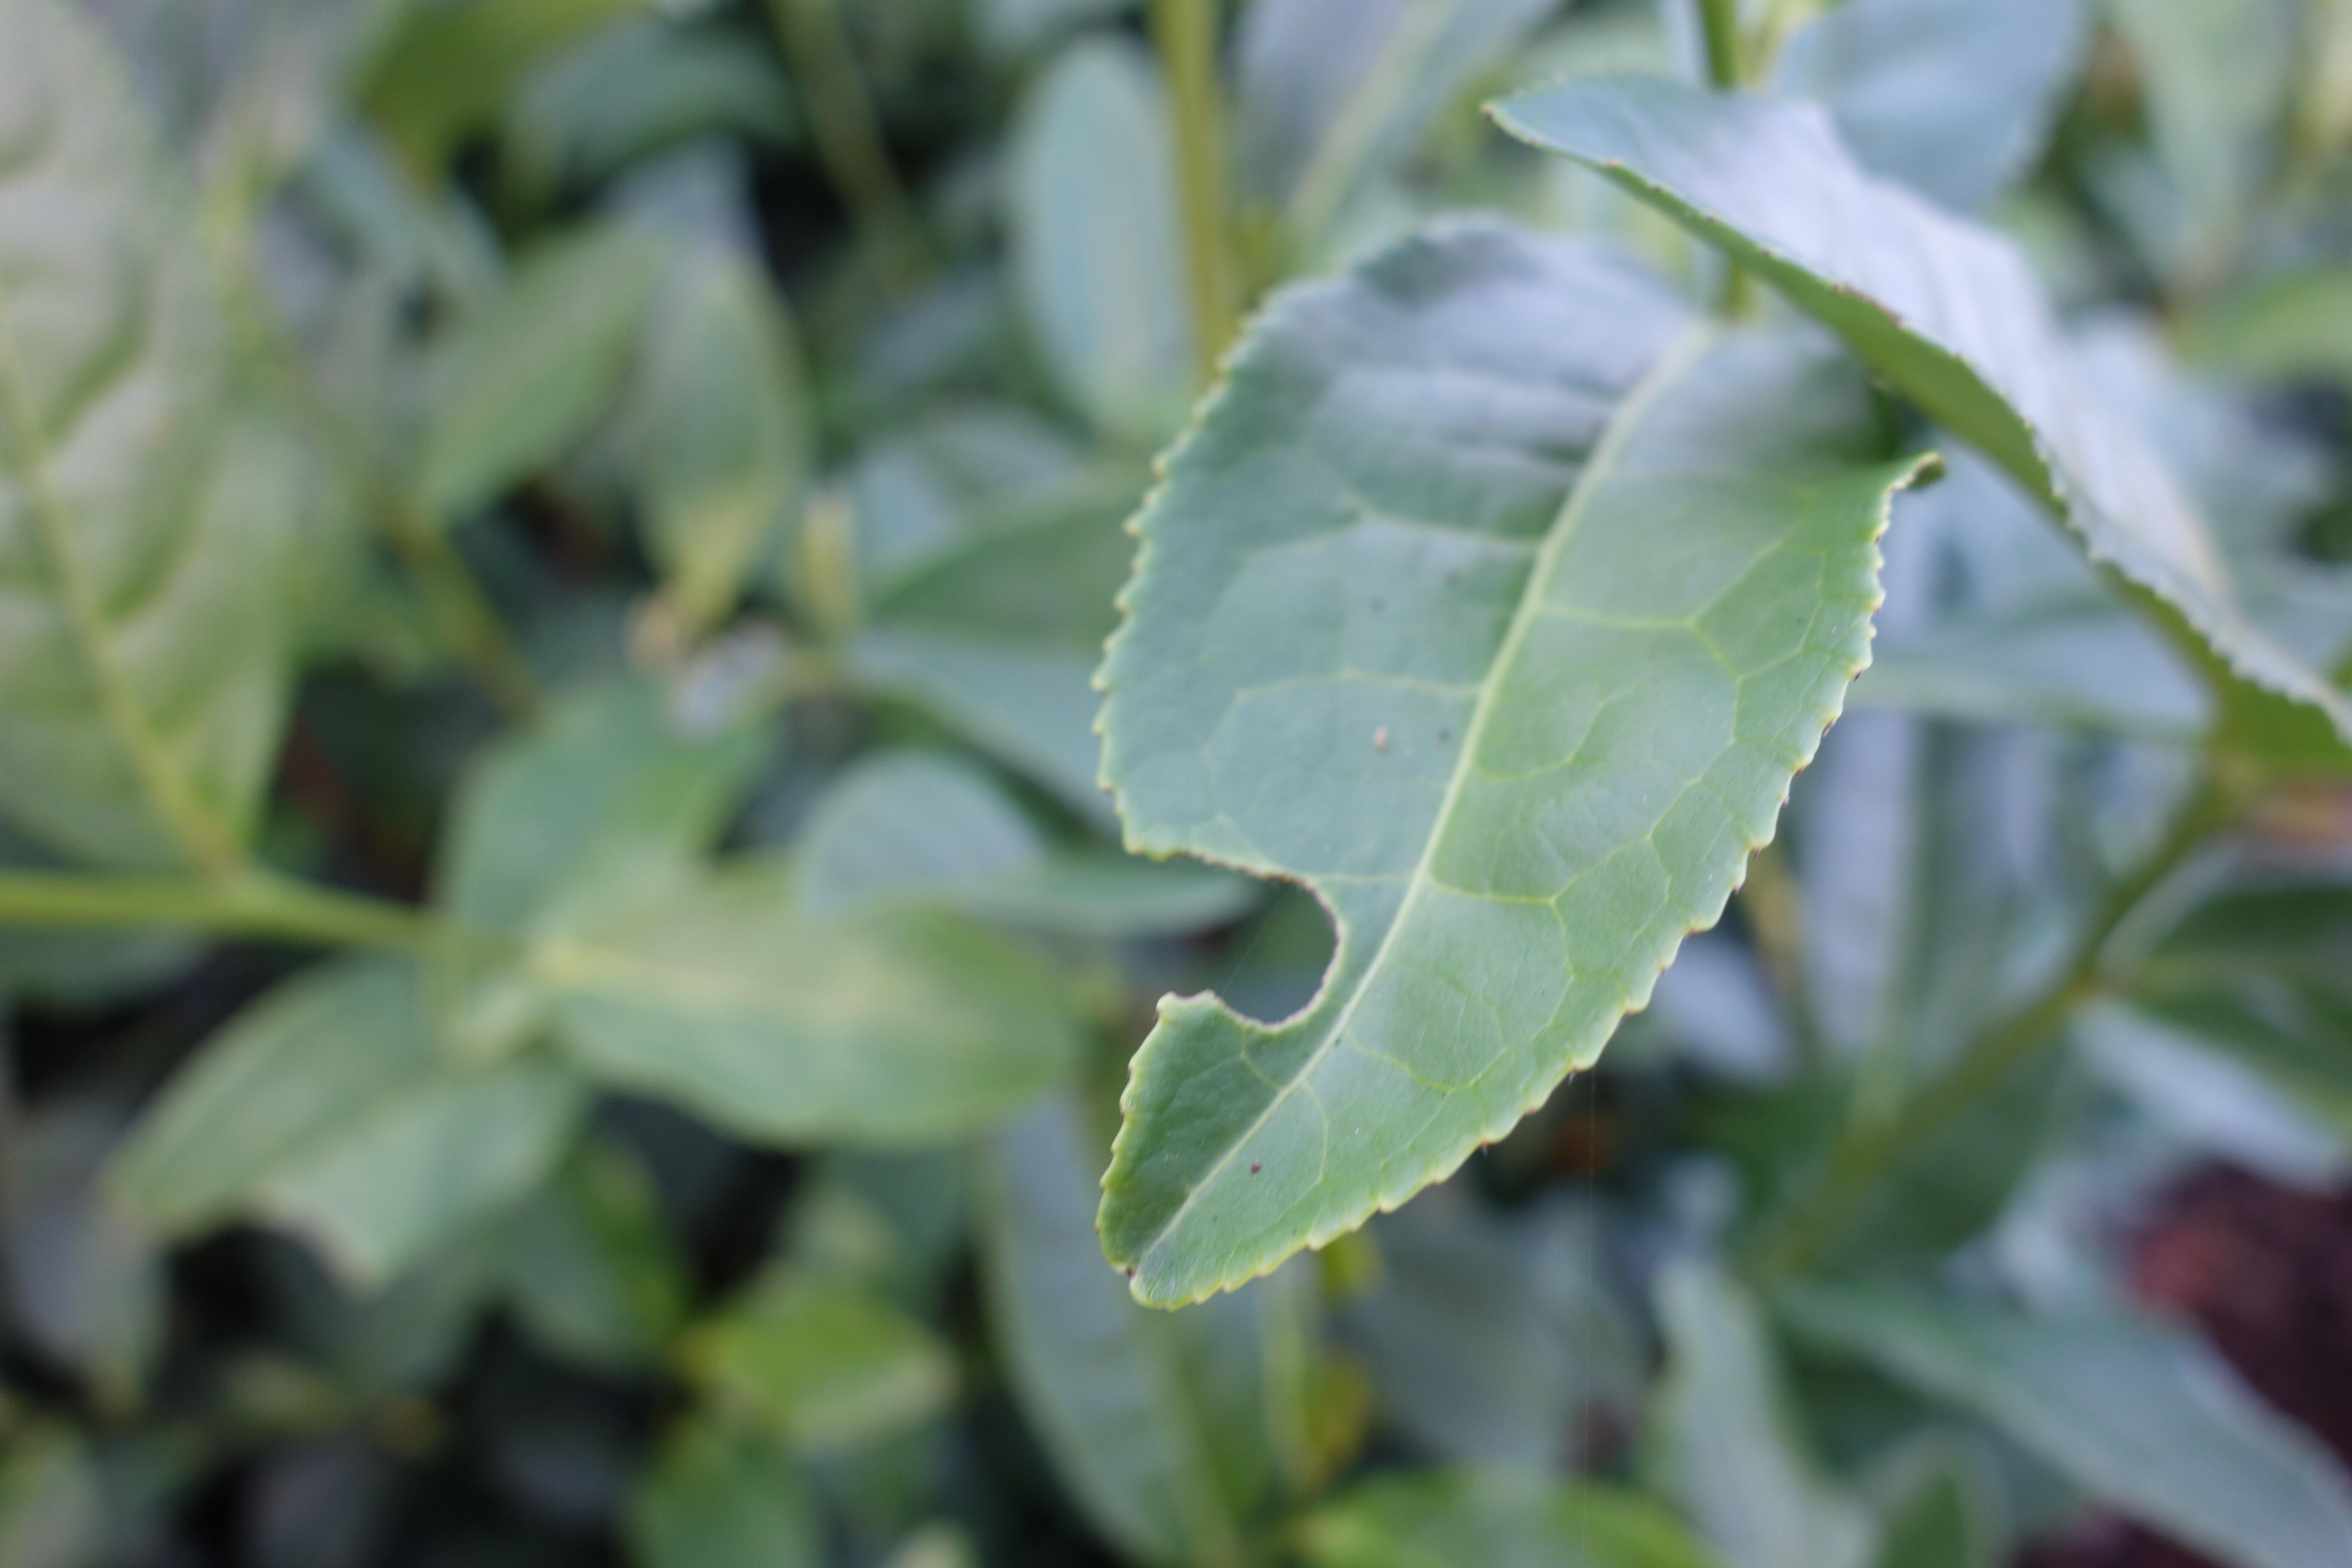chihuo_low: (1090, 212, 1948, 1309)
